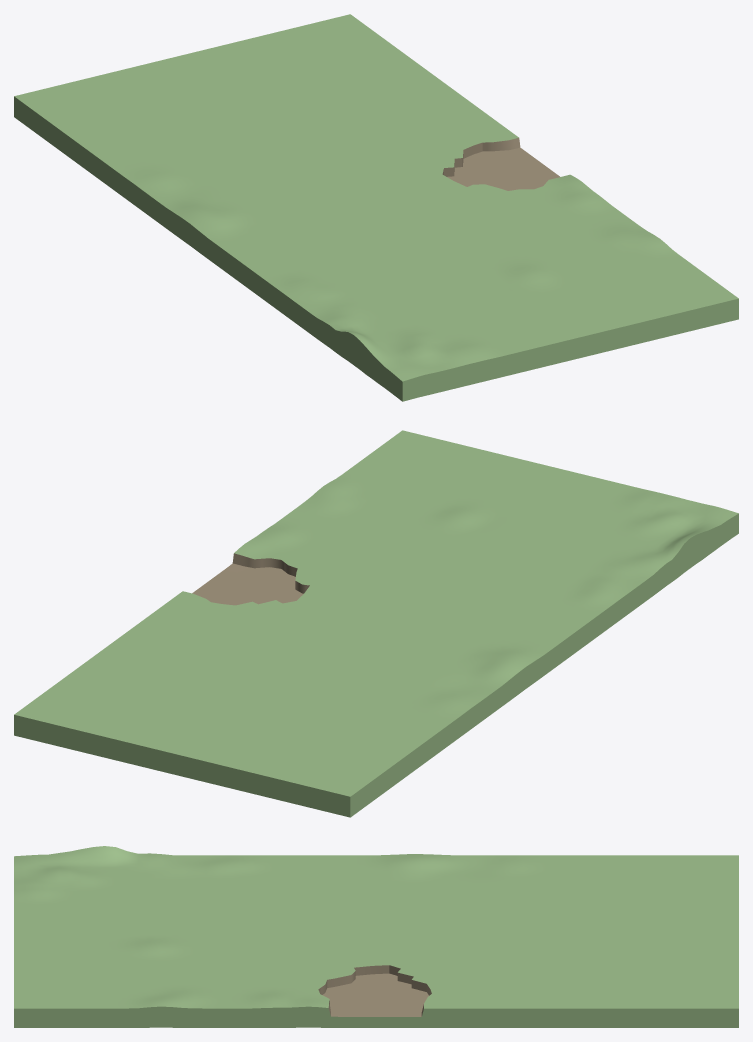
The model's file is baseTerrain.fbx.
3 views of the same model, one above another, from view 1: azimuth 30°, elevation 25°; view 2: azimuth 150°, elevation 25°; view 3: azimuth 270°, elevation 25° (orthographic). The views are drawn at different scales.
Visible parts, largest first — view 1: baseTerrain_geo; view 2: baseTerrain_geo; view 3: baseTerrain_geo.
Part boxes in pixels (box(x1,y1,x2,y2)): baseTerrain_geo: box(14, 14, 738, 401); baseTerrain_geo: box(14, 430, 738, 817); baseTerrain_geo: box(14, 846, 738, 1027).
Size of the model in its own units: 137 by 12.09 by 273.
